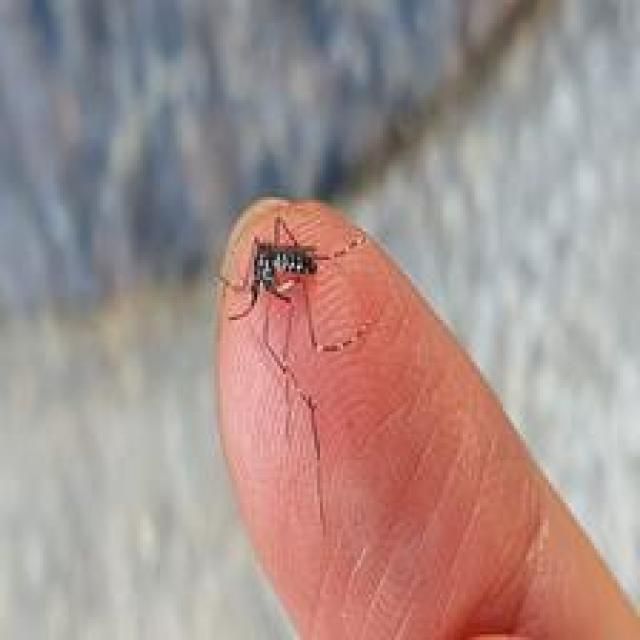Aedes albopictus: (214, 213, 369, 458)
